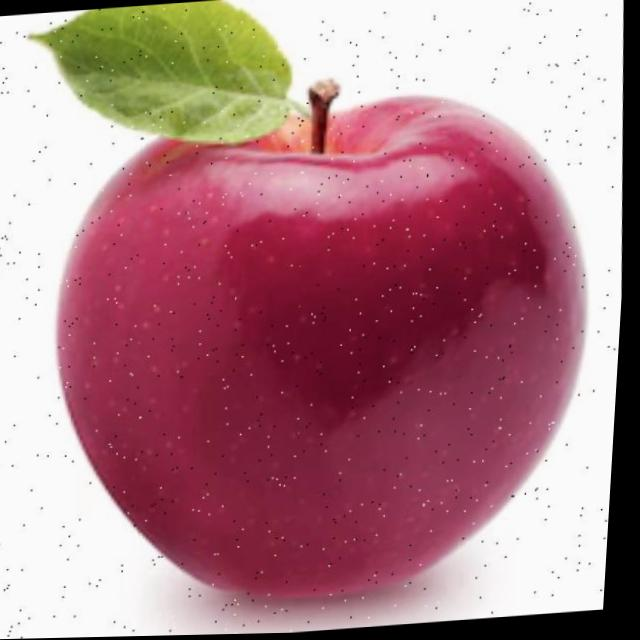Apple: (34, 63, 619, 621)
